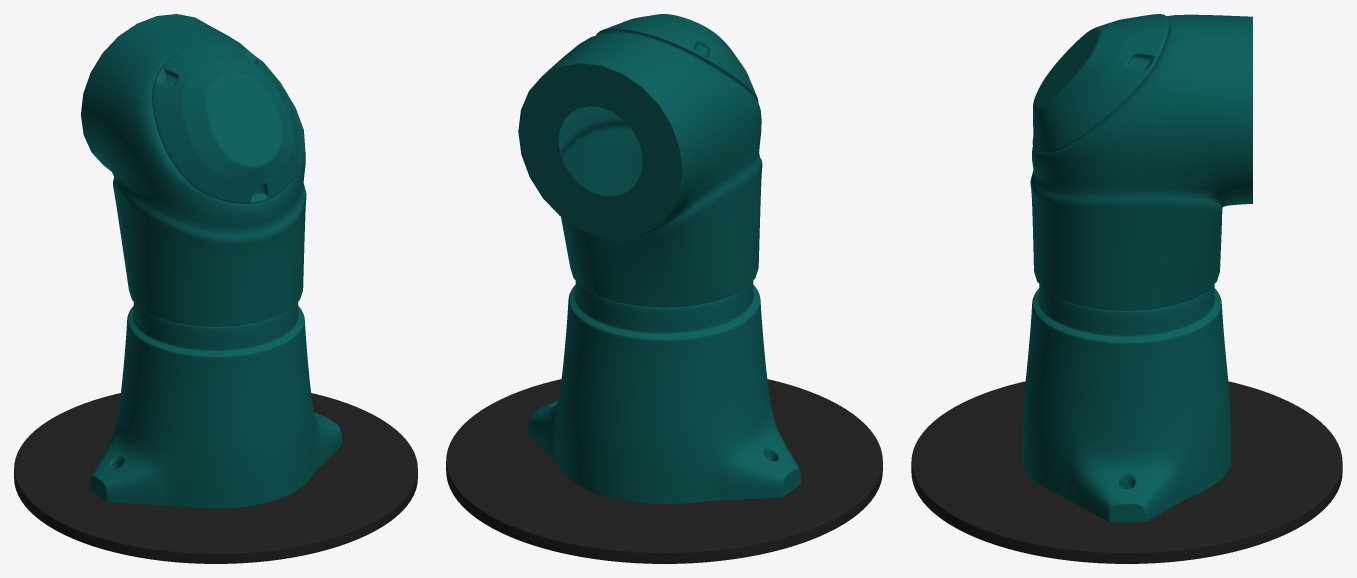
Rendered from arm1.glb.
The picture shows the model from 3 angles, left to right: view 1: azimuth 30°, elevation 25°; view 2: azimuth 150°, elevation 25°; view 3: azimuth 270°, elevation 25°; orthographic projection. The views are drawn at different scales.
Visible parts, largest first — view 1: Object_39, Object_42, Object_44; view 2: Object_39, Object_42, Object_44; view 3: Object_39, Object_42, Object_44.
Boxes of the visible parts, x1,y1,x2,y2 form: Object_39: (81,14,306,326); Object_42: (89,302,342,508); Object_44: (14,393,417,563); Object_39: (518,14,762,307); Object_42: (528,281,800,504); Object_44: (446,379,882,563); Object_39: (1030,14,1252,310); Object_42: (1022,284,1231,522); Object_44: (911,381,1342,563).
Size of the model in its own units: 0.8383 by 0.9647 by 0.8383.
